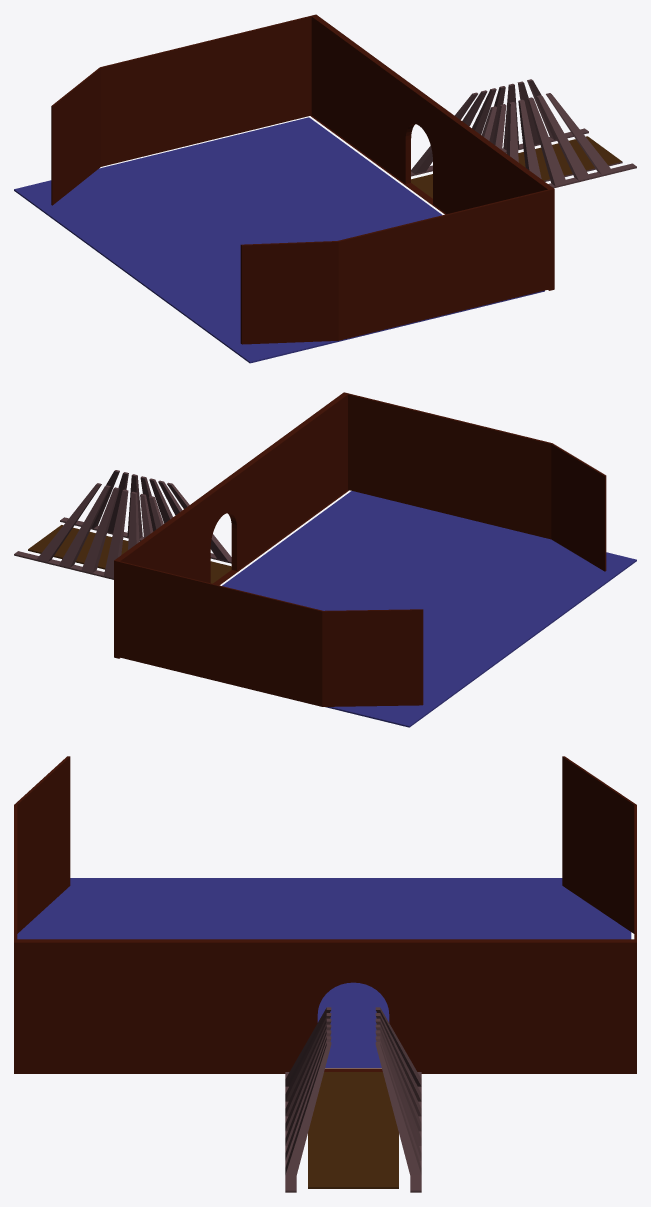
File: museito.glb
The picture shows the model from 3 angles, top to bottom: view 1: azimuth 30°, elevation 25°; view 2: azimuth 150°, elevation 25°; view 3: azimuth 270°, elevation 25°; orthographic projection. The views are drawn at different scales.
Visible parts, largest first — view 1: Cubo, Cubo.003, Cubo.001, Cubo.002; view 2: Cubo, Cubo.003, Cubo.001, Cubo.002; view 3: Cubo, Cubo.003, Cubo.002, Cubo.001.
Part boxes in pixels (box(x1,y1,x2,y2)): Cubo: box(51, 14, 554, 344); Cubo.003: box(14, 117, 544, 363); Cubo.001: box(411, 79, 636, 188); Cubo.002: box(411, 136, 621, 198); Cubo: box(114, 392, 606, 706); Cubo.003: box(222, 491, 636, 727); Cubo.001: box(14, 470, 231, 579); Cubo.002: box(28, 525, 231, 583); Cubo: box(14, 756, 636, 1073); Cubo.003: box(17, 878, 631, 1067); Cubo.002: box(308, 1072, 398, 1188); Cubo.001: box(285, 1007, 421, 1192).
Bounding box in the file's own units: 20.68 × 4.05 × 17.42.
